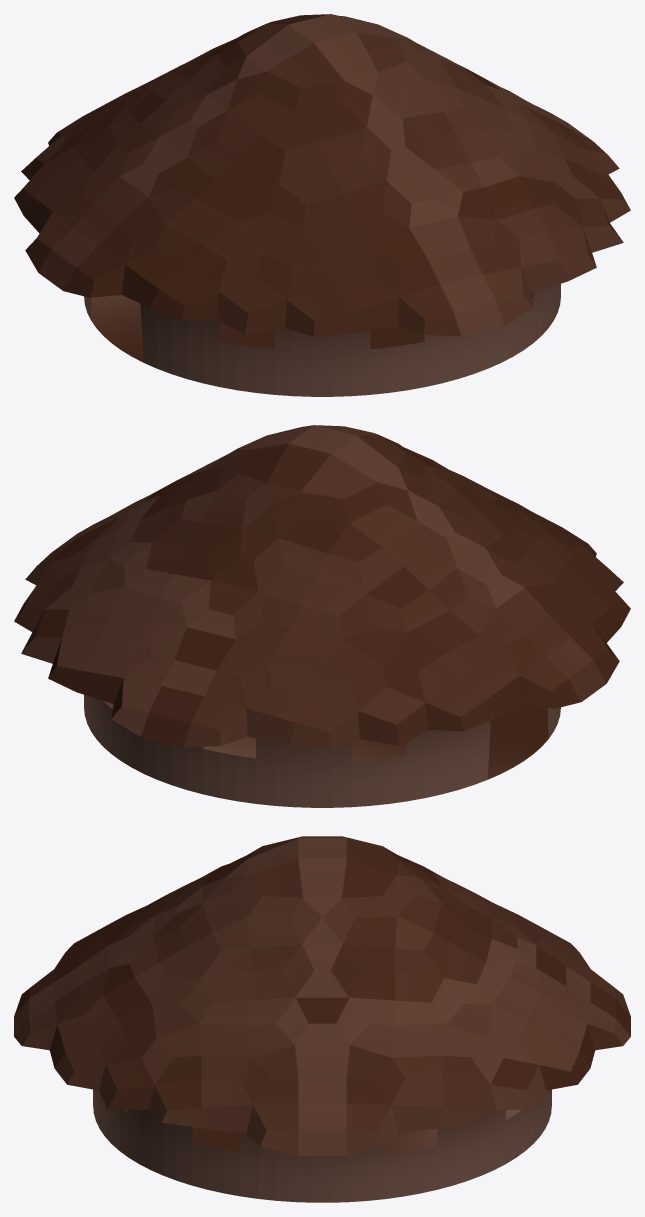
The model's file is ocas pequena5.fbx.
The picture shows the model from 3 angles, top to bottom: view 1: azimuth 30°, elevation 25°; view 2: azimuth 150°, elevation 25°; view 3: azimuth 270°, elevation 25°; orthographic projection. The views are drawn at different scales.
Parts seen in each view (by area): view 1: Cone.002, Cylinder.002; view 2: Cone.002, Cylinder.002; view 3: Cone.002, Cylinder.002.
Boxes of the visible parts, box(x1,y1,x2,y2) form: Cone.002: box(14, 14, 630, 336); Cylinder.002: box(84, 284, 560, 396); Cone.002: box(14, 425, 630, 747); Cylinder.002: box(84, 695, 560, 807); Cone.002: box(14, 836, 630, 1155); Cylinder.002: box(93, 1089, 551, 1202).
Bounding box in the file's own units: 445 × 209 × 455.
2 materials, 2 textured.
